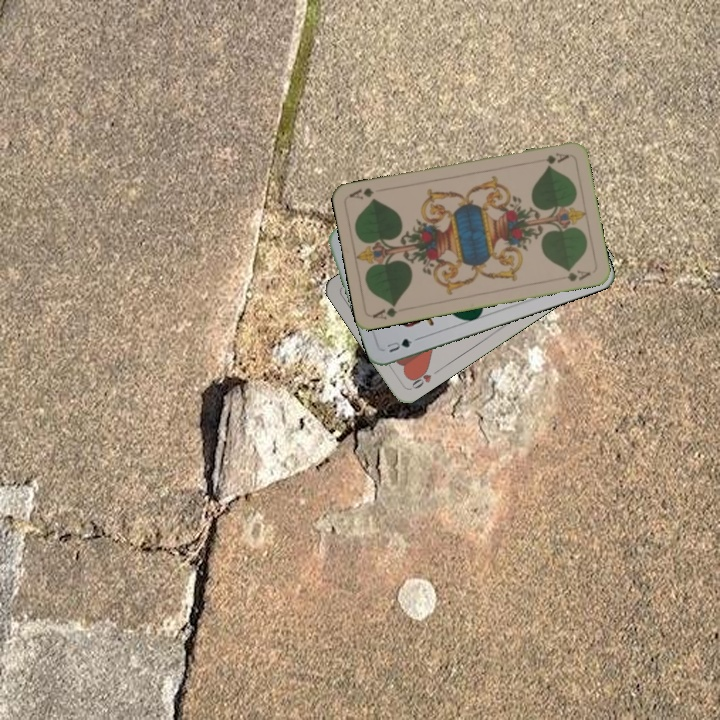GA: (369, 300, 400, 322), (532, 149, 572, 166)
GU: (383, 334, 415, 355)
HO: (406, 364, 442, 392)
